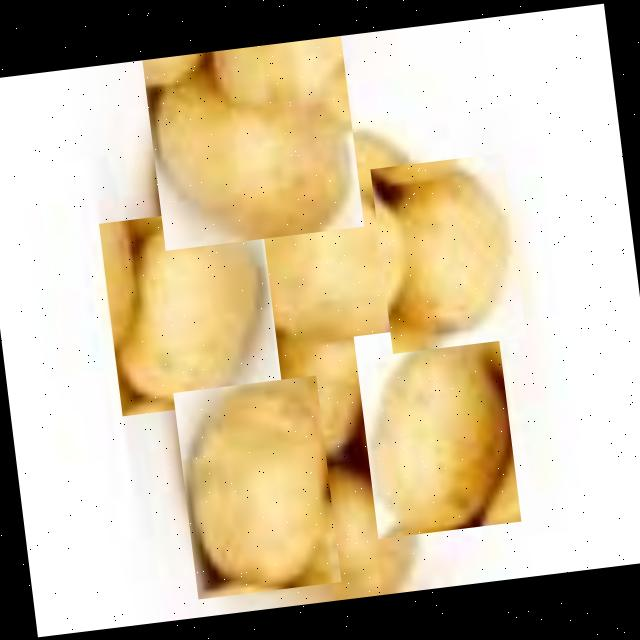Potato: (141, 36, 363, 250), (98, 204, 282, 416), (172, 375, 340, 599), (352, 318, 520, 538), (369, 152, 525, 354)
